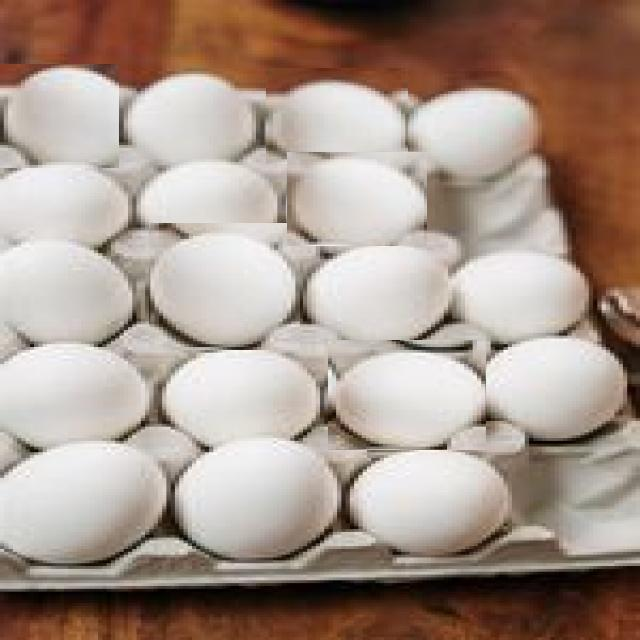Egg: (178, 430, 338, 560), (149, 223, 300, 350), (328, 340, 486, 450), (8, 339, 154, 454), (450, 244, 600, 350), (266, 68, 408, 164), (132, 151, 290, 237), (287, 152, 427, 246), (0, 64, 119, 168)
